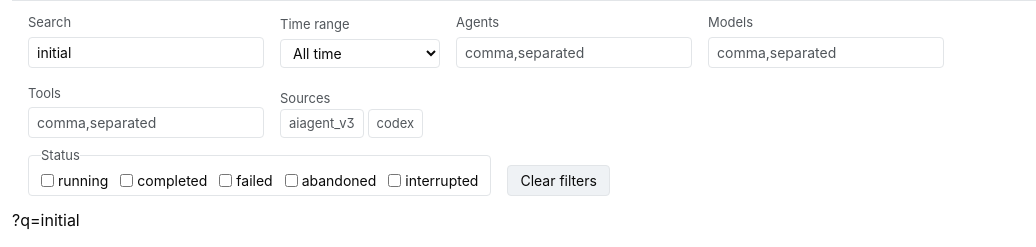
Test case: FilterBar › clearing the search box removes the q param
The width and height of the screenshot is (1036, 247).
Clear the search field with placeholder "agent name…": (146, 52) [28,36,264,68]
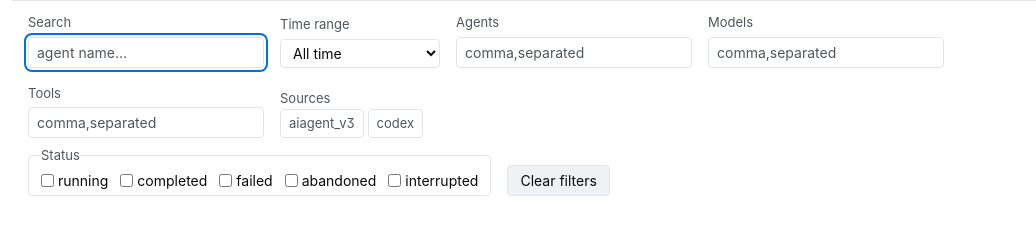
Check: the text with test id "loc" no longer shows "q="
